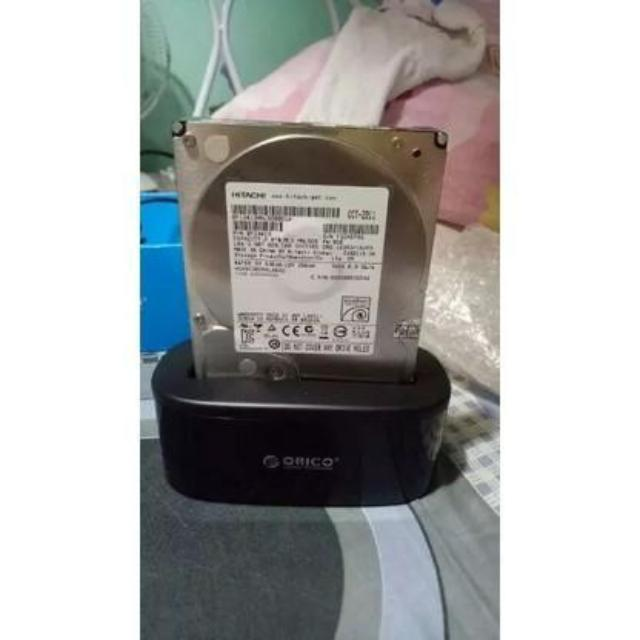DISK: (170, 101, 447, 407)
